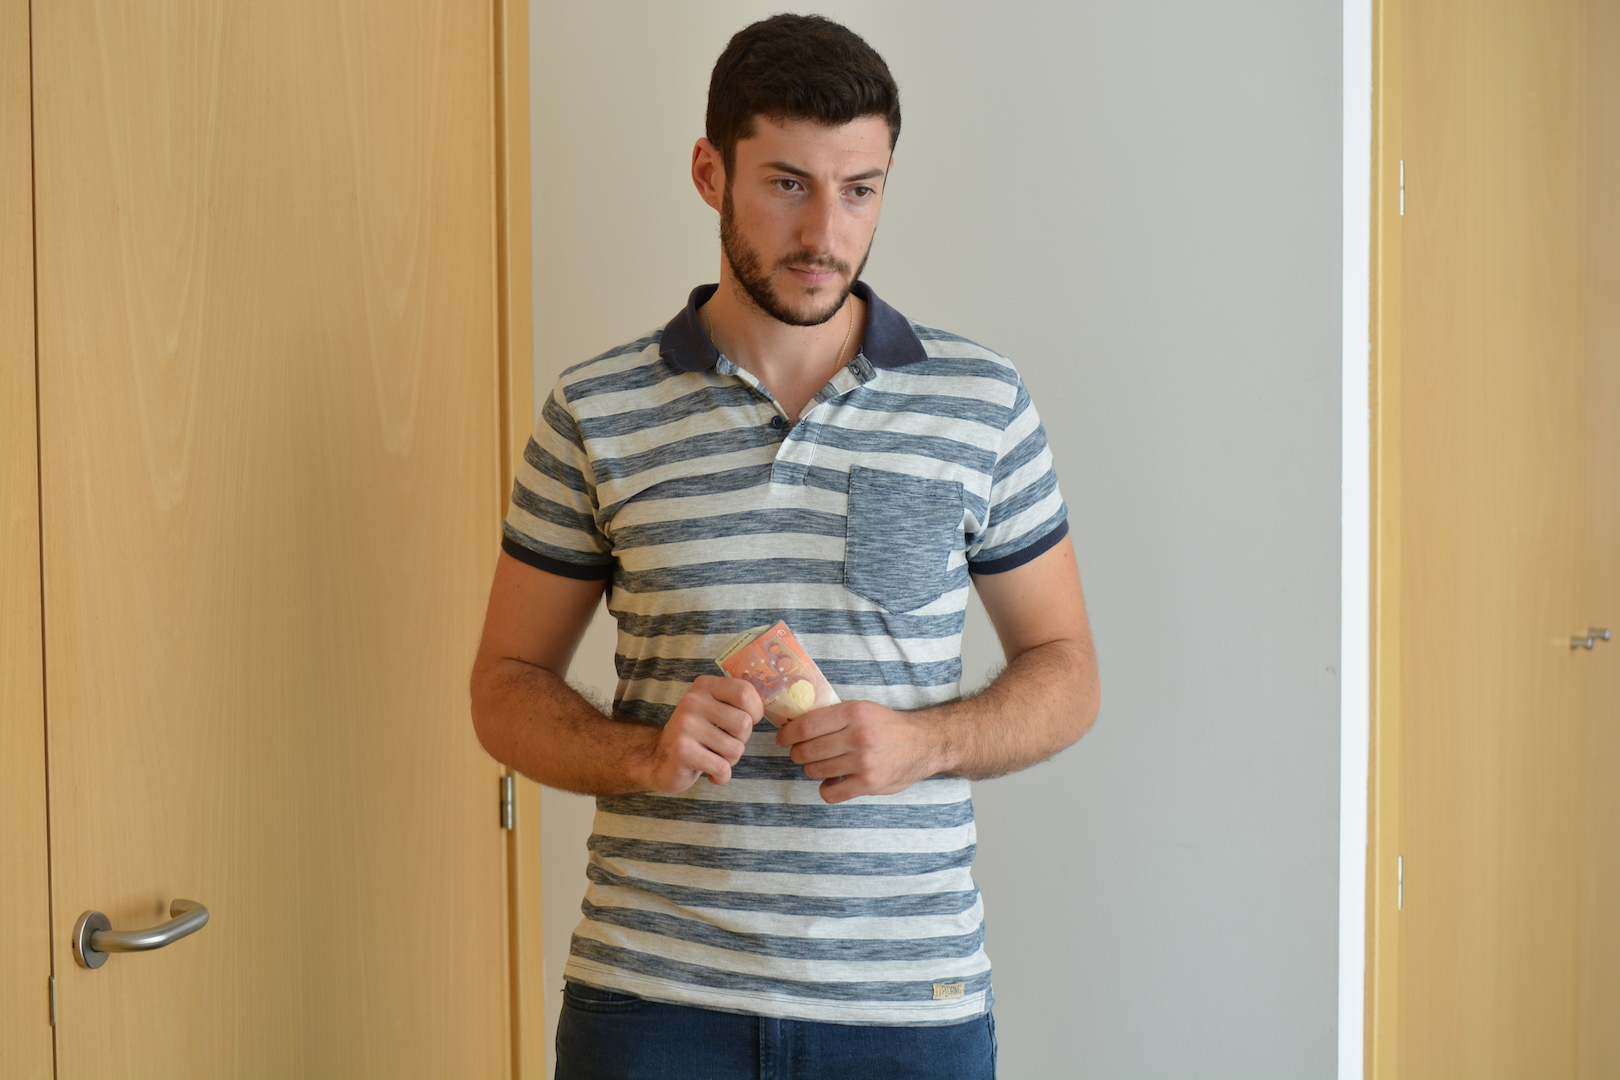billete: (715, 620, 843, 730)
